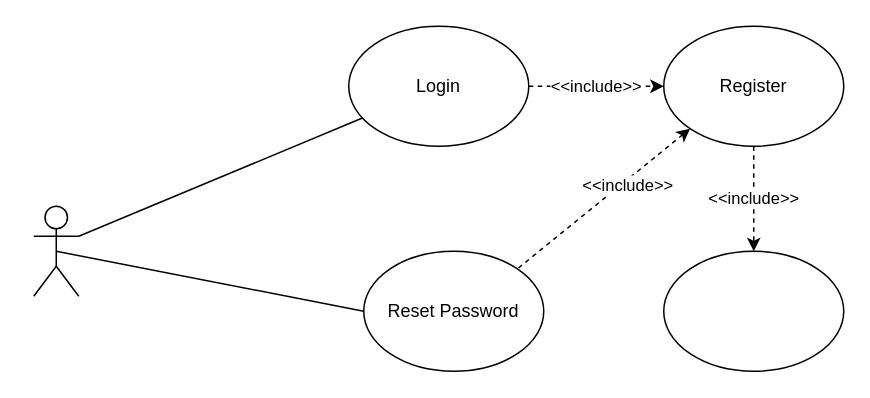
Image size: 870x398. Some labels were removed from this diagram. The shapes that lost their labels are listed below. From the top down, each one's box as (x1, y1, x2, y2) in pixels, then its label:
(32, 205, 79, 296): Student
(662, 250, 844, 371): Confirm Email
